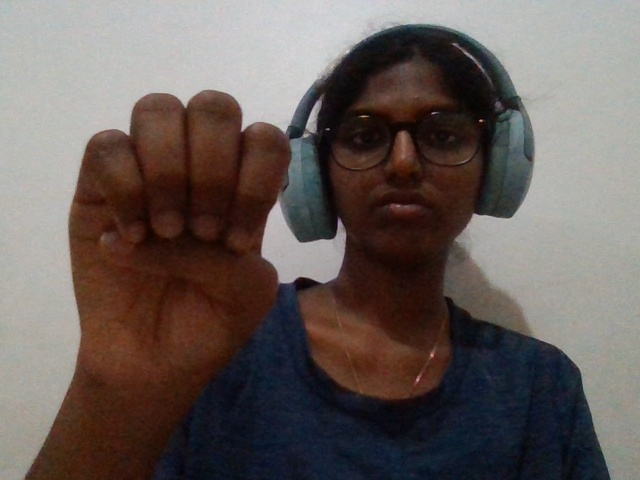E: (31, 52, 311, 448)
